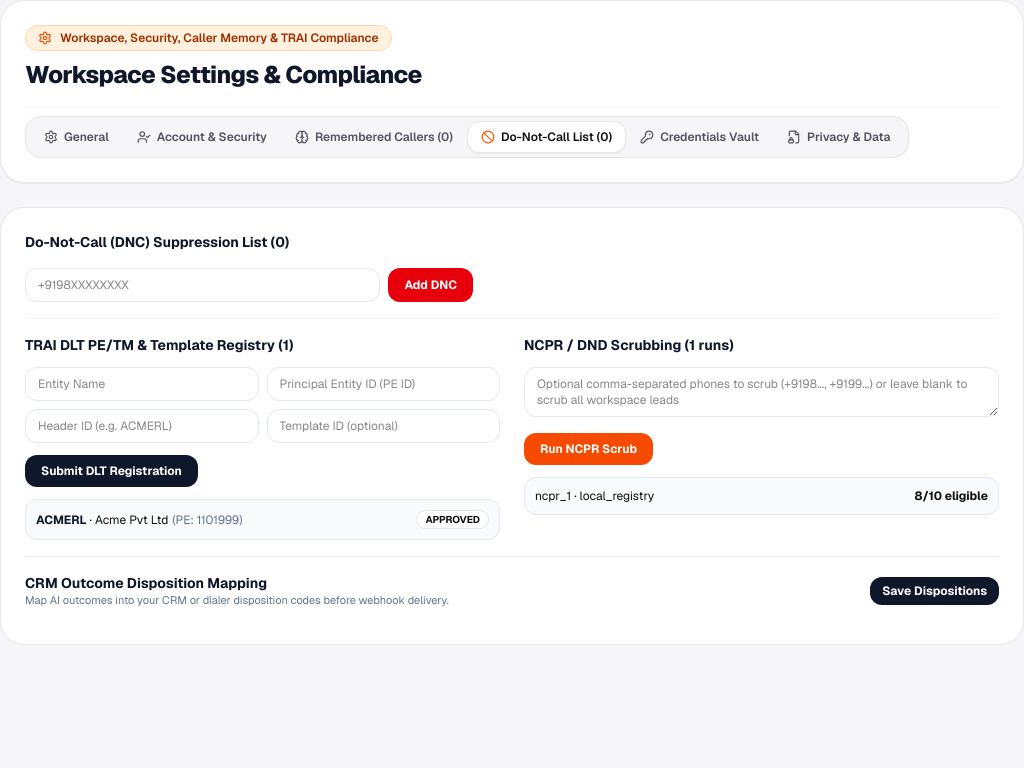
Test: Sprint E DLT, NCPR, Staff Ops & Preflight (RED -> GREEN) › renders DLT registration and NCPR scrubbing controls in SettingsPanel dnc tab
Expected: the heading "TRAI DLT PE/TM & Template Registry (1)" is shown, x1=25 y1=336 x2=294 y2=354
Expected: the text "ACMERL" is shown, x1=36 y1=512 x2=86 y2=528
Click the button "Run NCPR Scrub": (588, 449) x1=524 y1=433 x2=653 y2=465
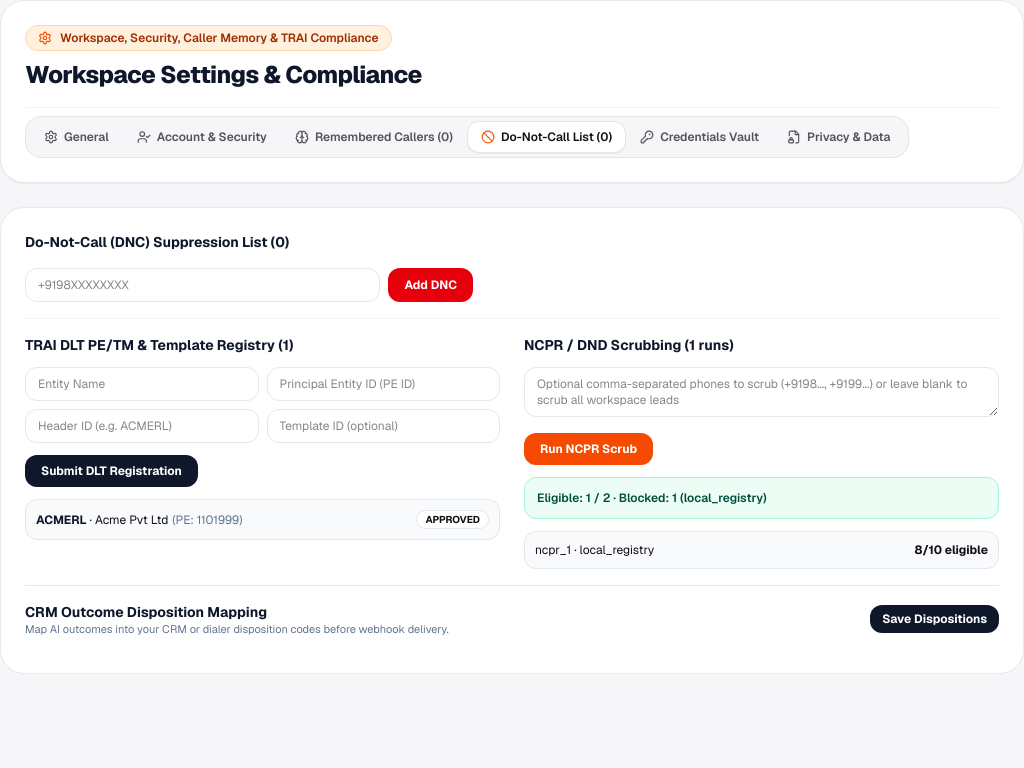
Result: the text "Eligible: 1 / 2 · Blocked: 1 (local_registry)" is shown at x1=524 y1=477 x2=999 y2=519
